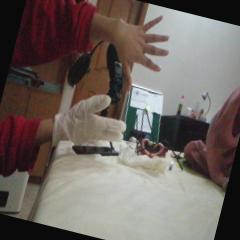gloved: (52, 84, 132, 152)
not-gloved: (90, 2, 178, 100)
